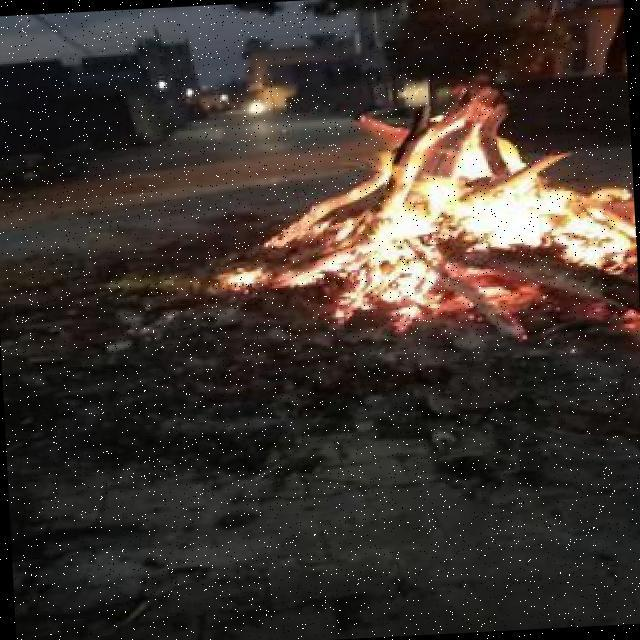Fire: (200, 36, 638, 334)
